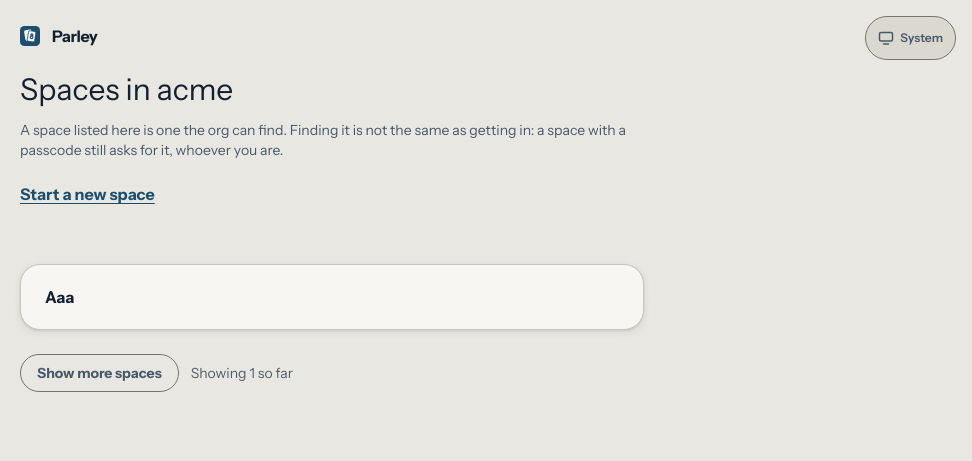
Test: OrgDirectory › hands the server's cursor back untouched
Expected: the link "Aaa" is shown, [45, 287, 74, 307]
Click the button "Show more spaces" at (99, 373), box [20, 354, 179, 392]
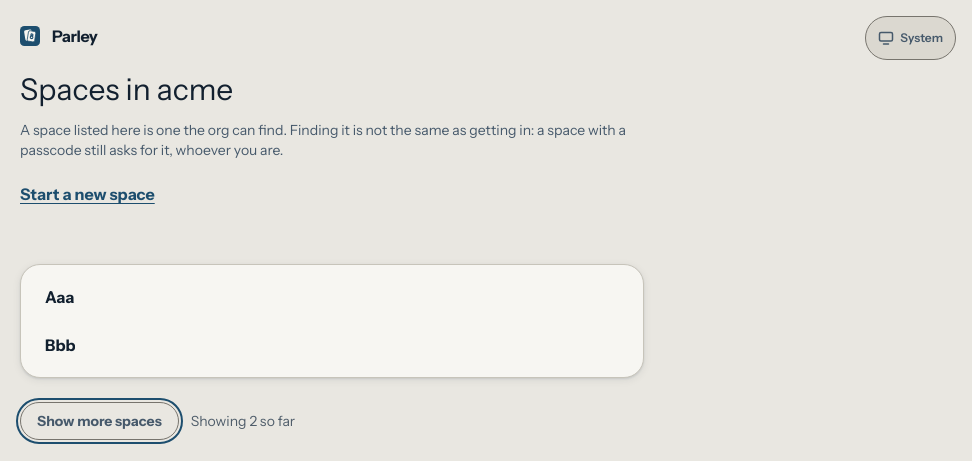
Expected: the link "Bbb" is shown, [45, 335, 76, 355]
Click the button "Show more spaces" at (99, 421), box [20, 402, 179, 440]
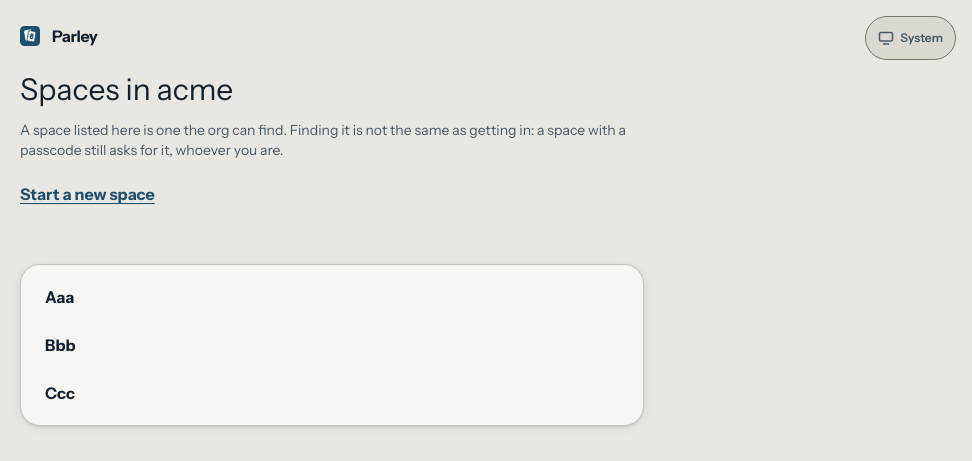
Expected: the link "Ccc" is shown, [45, 383, 75, 403]
